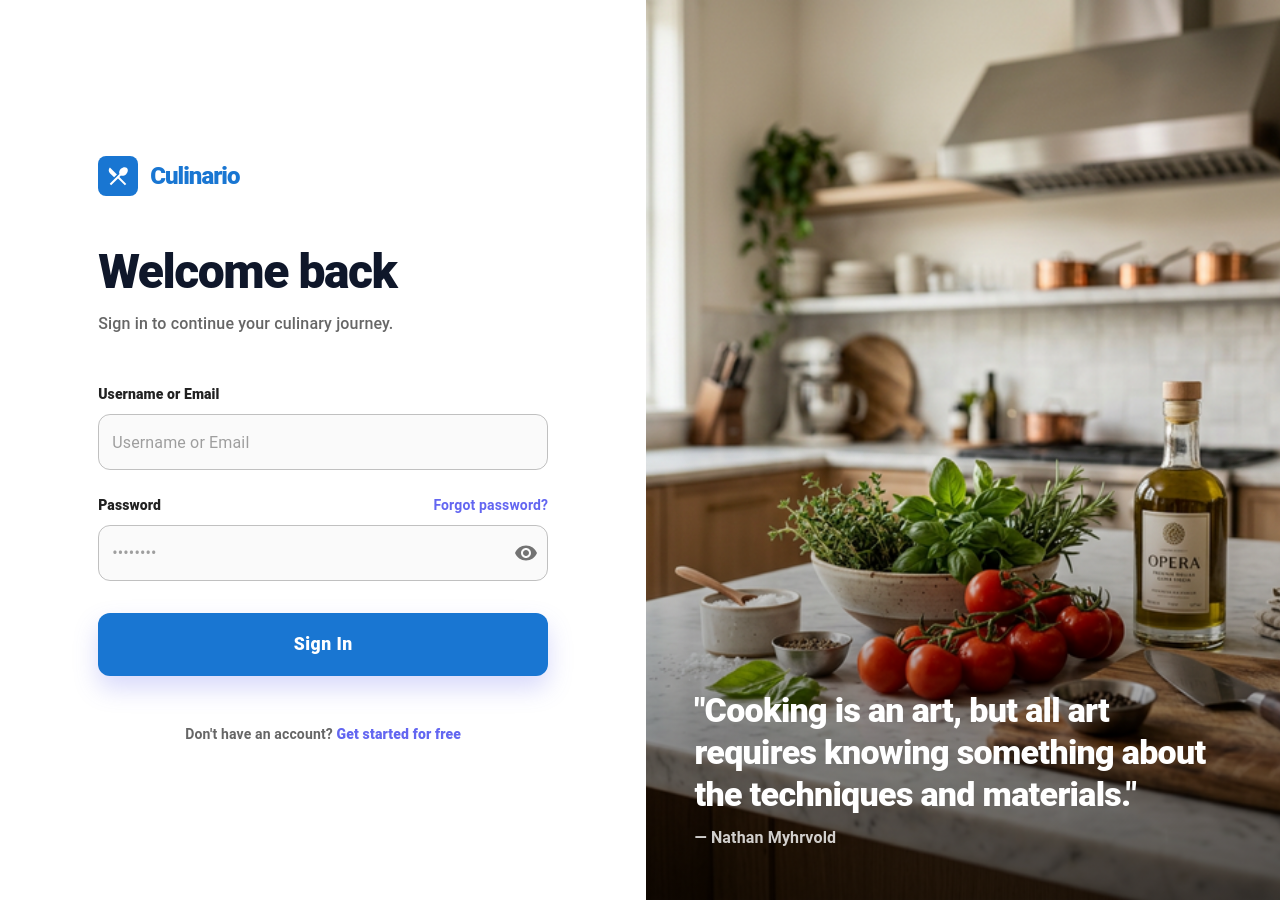
Test: LoginPage › shows validation errors when fields are empty
The image size is (1280, 900).
Click the button "Sign In" at (323,644), box [98,613,548,676]
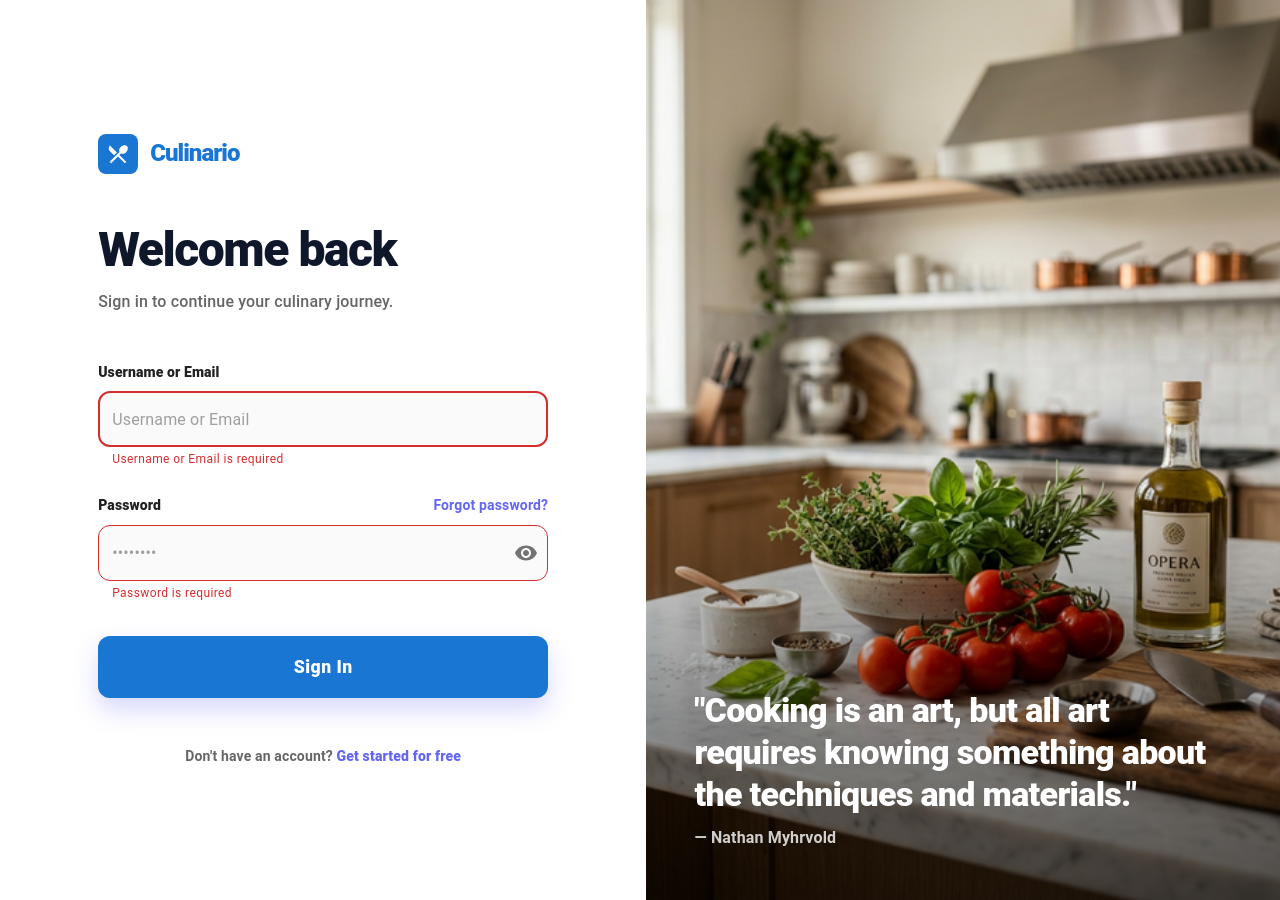
Check: the text "Username or Email is required" is shown, box [112,452,284,466]
Check: the text "Password is required" is shown, box [112,586,232,600]
